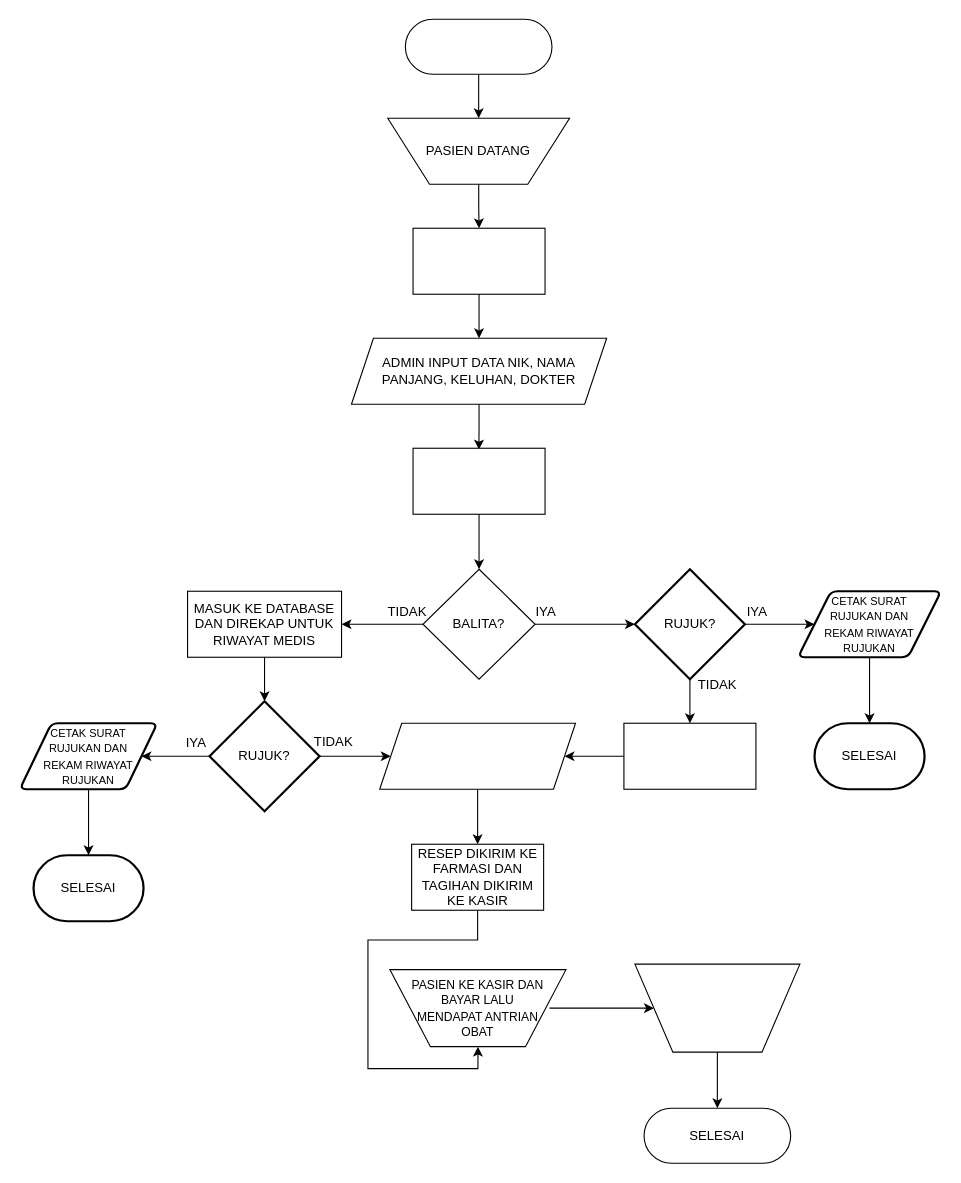
Some shapes in this 961 by 1183 pixel diagram are drawn without their labels. The centre of each missing label's shape, as x and y in pixels:
"AMBIL ANTRIAN" goes at [478,260].
"DATA MASUK DB DAN DITERUSKAN KE DOKTER TUJUAN" goes at [478,480].
"DOKTER INPUT RESEP DOKTER & EDUKASI" goes at [477,755].
"MASUK KE SISTEM MONITORING STUNTING" goes at [689,755].
"MULAI" goes at [478,46].
"PASIEN DIPANGGIL DAN AMBIL OBAT" goes at [717,1007].
